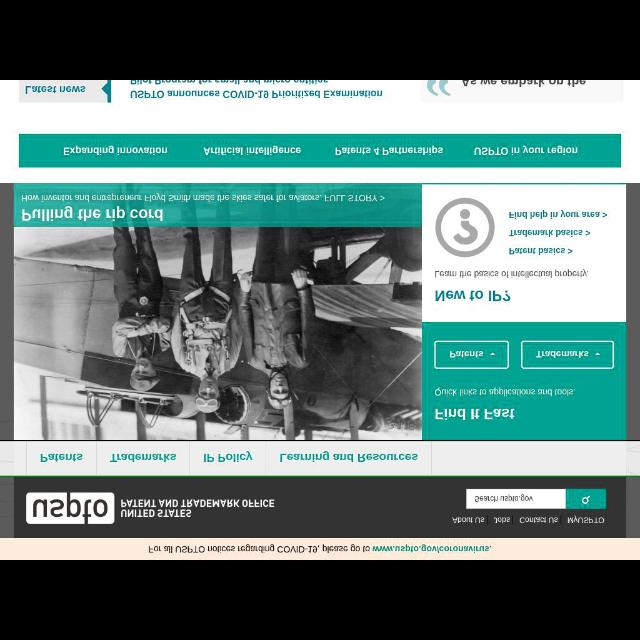button: (566, 489, 606, 508)
icon: (436, 198, 494, 258), (427, 80, 451, 96), (582, 494, 590, 504), (489, 351, 495, 357), (595, 352, 601, 356)
image: (12, 184, 422, 440), (26, 492, 116, 524)
input: (466, 489, 566, 508)
multitab: (39, 451, 418, 462)
spinner: (522, 342, 614, 368), (435, 340, 509, 370)
text: (130, 81, 382, 99), (21, 192, 385, 202), (148, 544, 492, 554), (121, 498, 275, 518), (21, 206, 162, 222), (280, 451, 418, 463), (434, 268, 588, 278), (435, 386, 575, 396), (334, 144, 444, 156), (62, 144, 168, 156), (474, 145, 578, 157), (203, 144, 301, 156), (434, 288, 510, 302), (436, 408, 516, 420), (508, 210, 608, 218), (462, 81, 588, 87), (109, 452, 177, 462), (509, 229, 591, 237), (202, 451, 254, 463), (508, 247, 574, 256), (24, 85, 86, 94), (474, 493, 534, 502), (39, 452, 83, 462), (536, 350, 588, 358), (518, 516, 560, 524), (450, 349, 484, 358), (567, 515, 605, 523), (452, 516, 486, 524), (493, 516, 511, 524)
toolbar: (1, 476, 639, 538)
